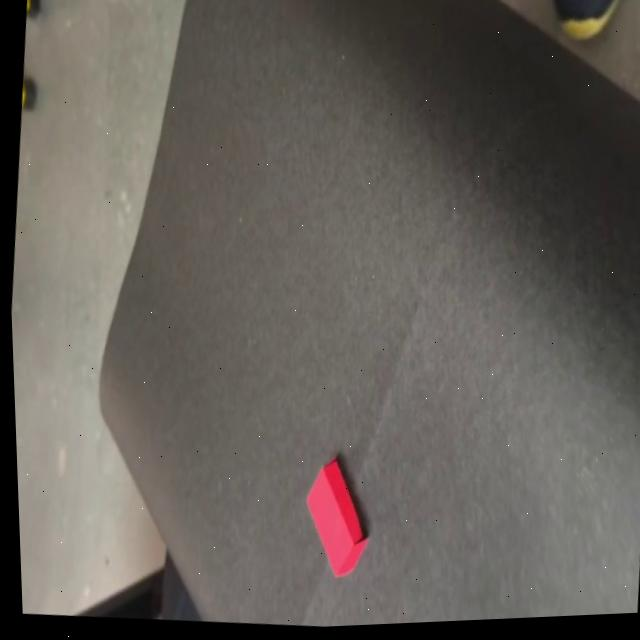red block: (297, 450, 377, 580)
